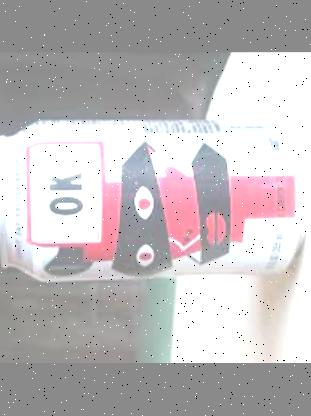Can: (0, 119, 307, 283)
